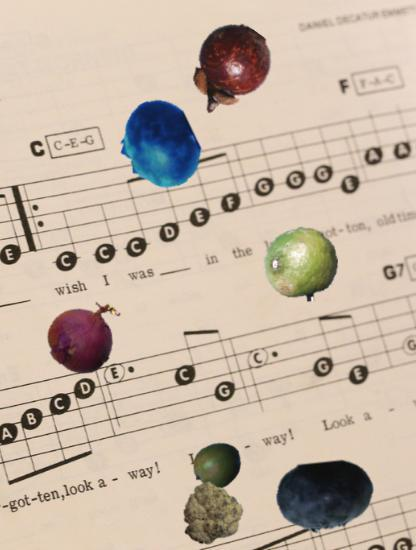Blueberry: (276, 448, 375, 547)
Cauliflower: (181, 483, 245, 547)
Huckleberry: (114, 100, 205, 191)
Limes: (263, 227, 339, 303)
Mango: (192, 440, 244, 492)
Mangostan: (181, 22, 276, 117)
Onion: (45, 295, 126, 376)
